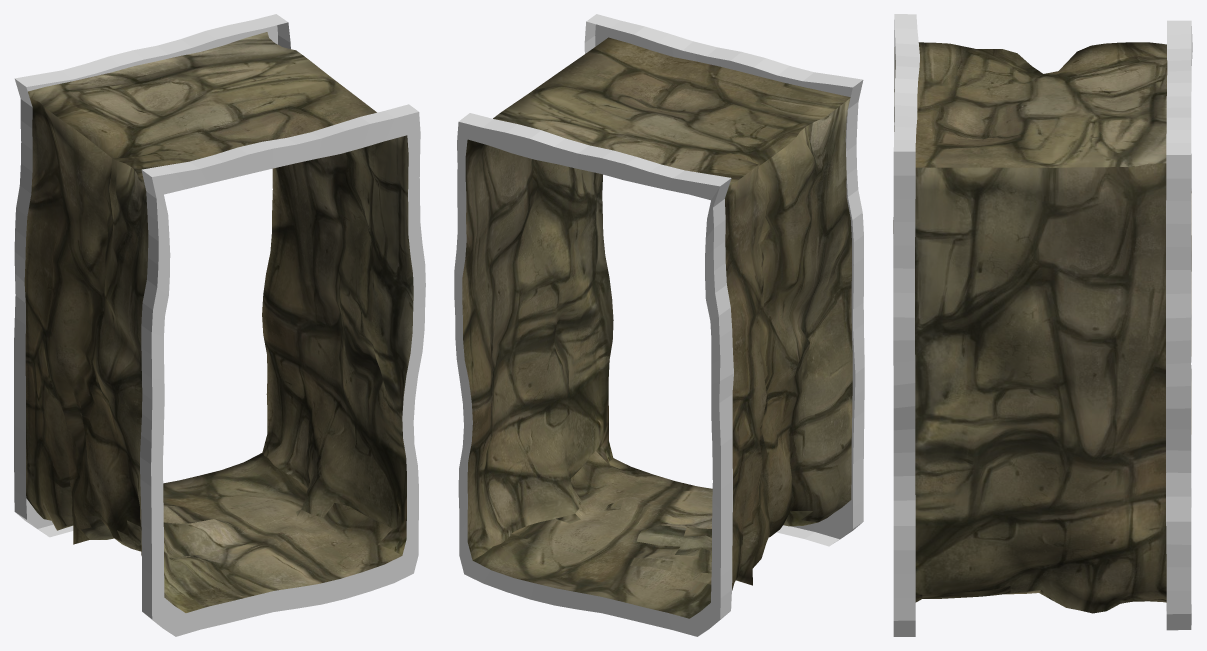
File: cave module 1.fbx
3 views of the same model, side by side, from view 1: azimuth 30°, elevation 25°; view 2: azimuth 150°, elevation 25°; view 3: azimuth 270°, elevation 25° (orthographic). The views are drawn at different scales.
Visible parts, largest first — view 1: Plane.1; view 2: Plane.1; view 3: Plane.1.
Boxes of the visible parts, <box> form: Plane.1: <box>14,14,425,636</box>; Plane.1: <box>454,14,864,636</box>; Plane.1: <box>893,14,1192,636</box>.
Bounding box in the file's own units: 690 × 1107 × 604.
